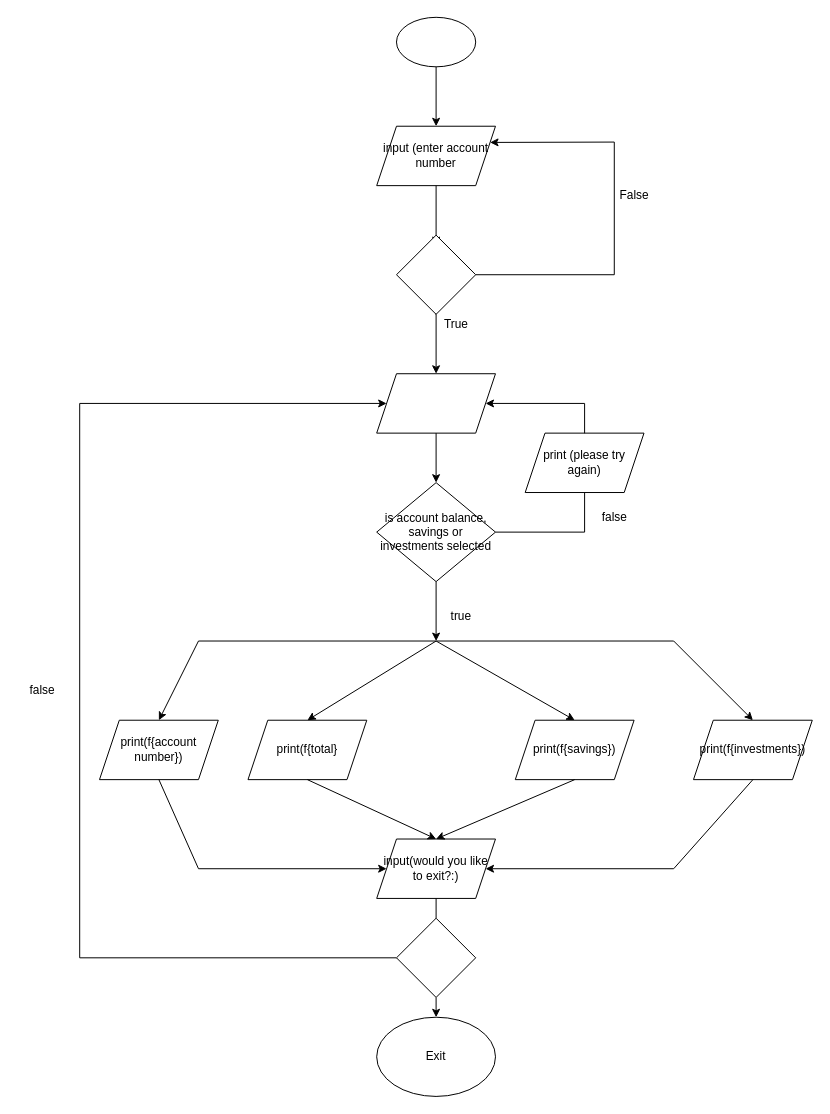
Some shapes in this 830 by 1114 pixel diagram are drawn without their labels. The box of each missing label's shape, as (x1, y1, x2, y2) in pixels:
0<x<=20: (396, 234, 476, 314)
input(select account balance, savings or investments): (376, 373, 495, 433)
is yes: (396, 917, 476, 997)
Start: (396, 16, 476, 67)
